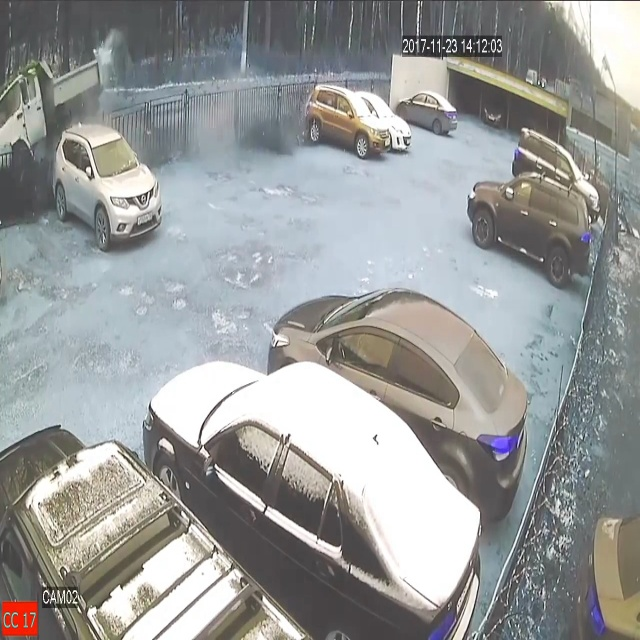acc: (1, 50, 101, 187)
